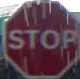Stop: (5, 0, 79, 78)
